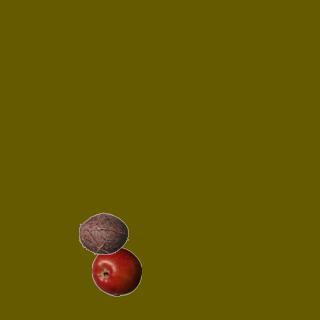Apple Braeburn: (91, 246, 141, 296)
Cocos: (78, 208, 128, 258)
